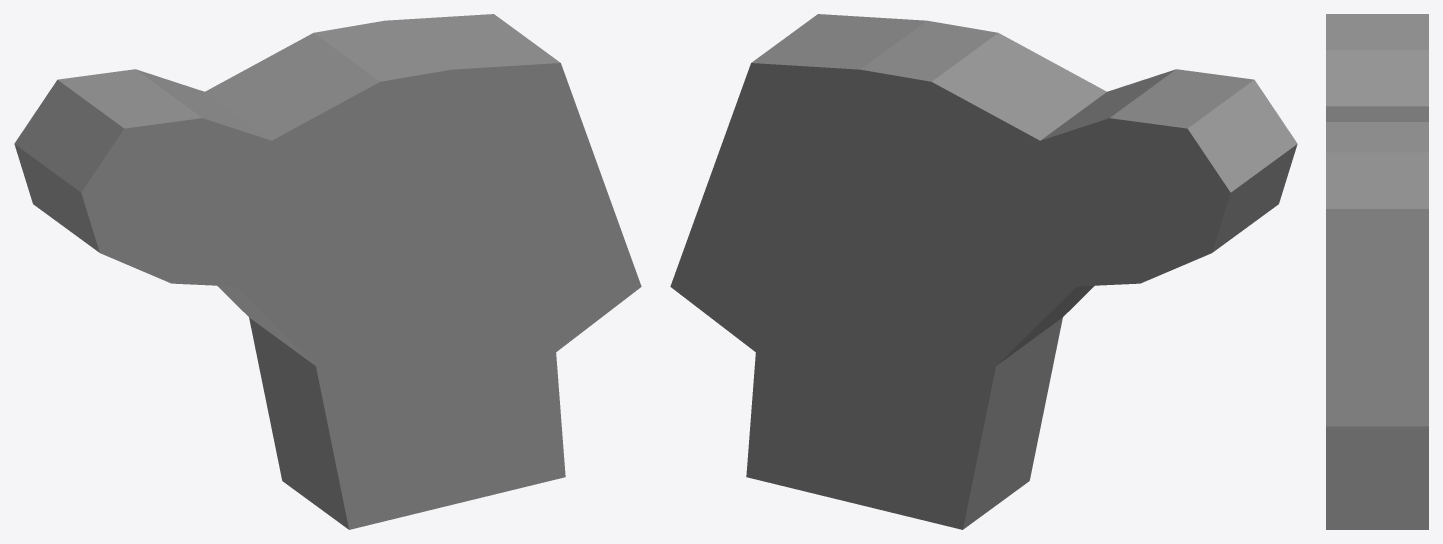
File: Pistol2_03_4.fbx
3 views of the same model, side by side, from view 1: azimuth 30°, elevation 25°; view 2: azimuth 150°, elevation 25°; view 3: azimuth 270°, elevation 25° (orthographic). The views are drawn at different scales.
Parts seen in each view (by area): view 1: Pistol2_03_4; view 2: Pistol2_03_4; view 3: Pistol2_03_4.
Boxes of the visible parts, <box> form: Pistol2_03_4: <box>14,14,641,529</box>; Pistol2_03_4: <box>670,14,1297,529</box>; Pistol2_03_4: <box>1326,14,1428,529</box>.
Size of the model in its own units: 0.0329 by 0.0256 by 0.00681.
